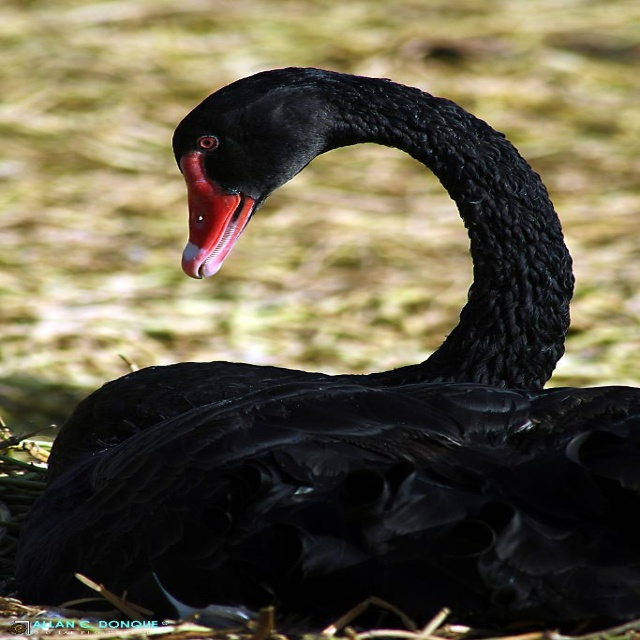Swan: (14, 66, 639, 636)
